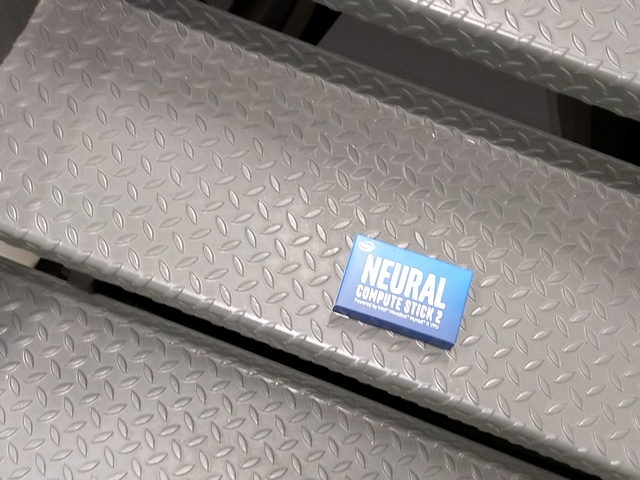box: (330, 232, 475, 352)
